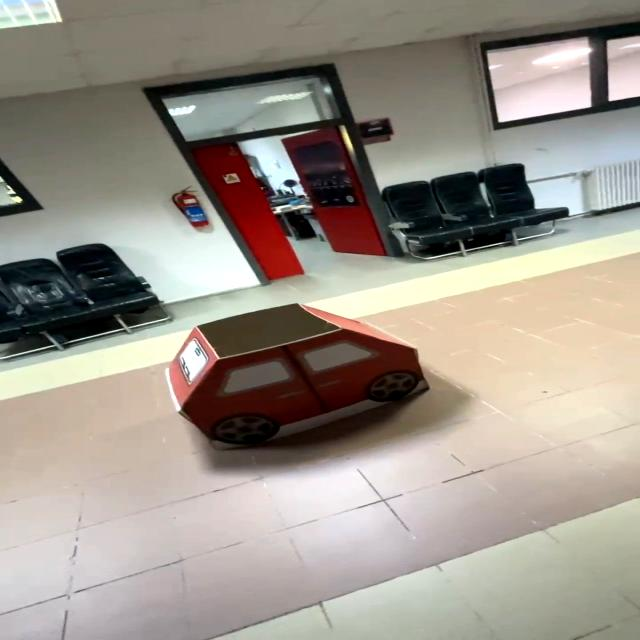red_car: (155, 290, 452, 453)
